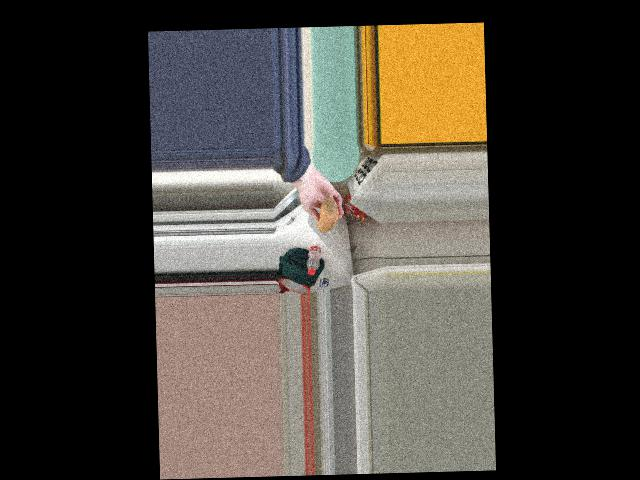sweet_potato: (319, 193, 337, 233)
